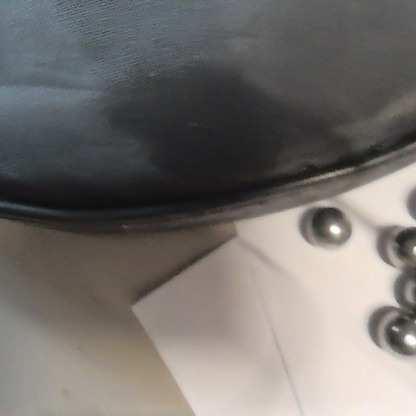ironball: (381, 311, 414, 360), (312, 207, 350, 247), (383, 224, 414, 271), (394, 272, 414, 310)
